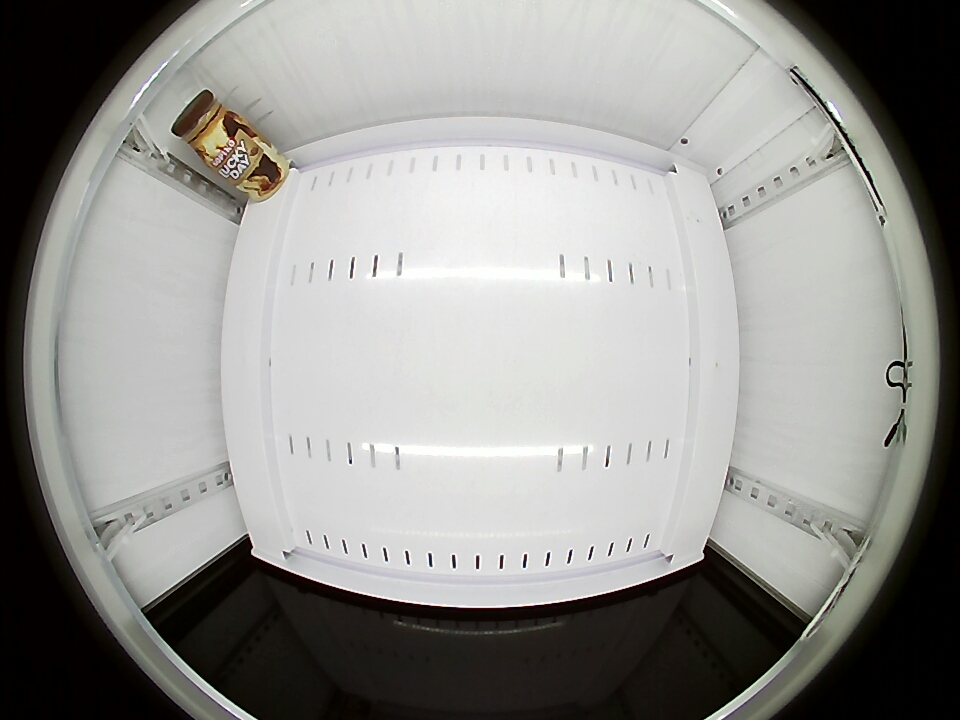lujikafei: (171, 90, 245, 166)
